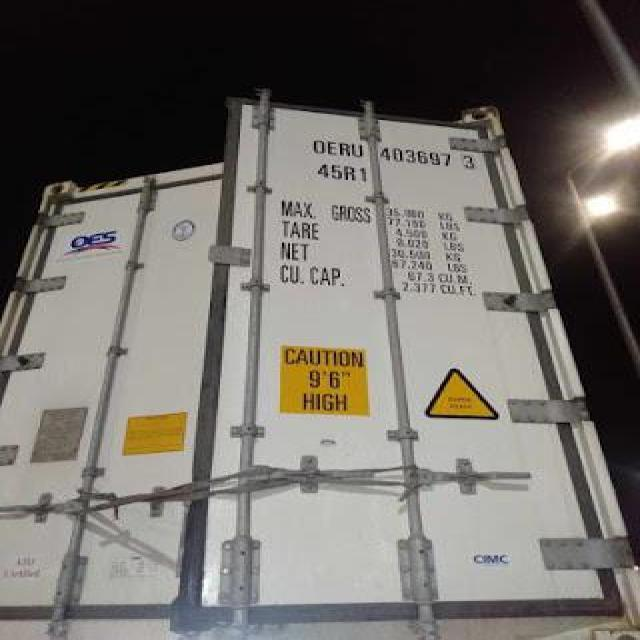ISO: (312, 160, 374, 182)
container_number: (302, 131, 488, 174)
